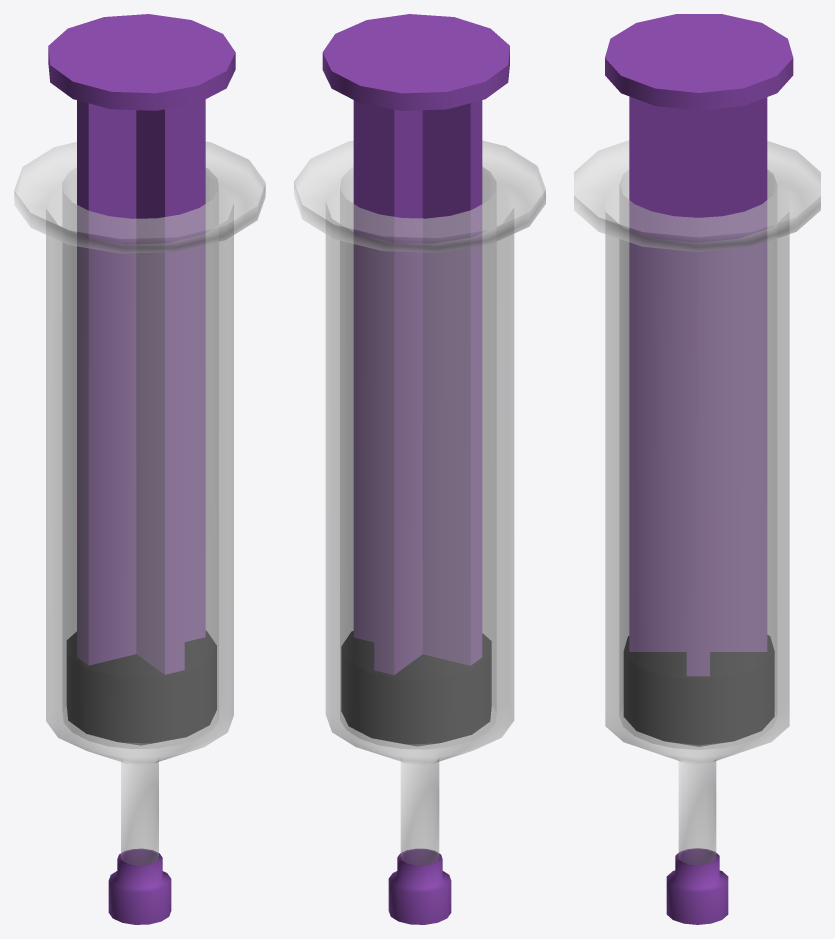
File: Enteral_Syringe_EVAC.fbx
The picture shows the model from 3 angles, left to right: view 1: azimuth 30°, elevation 25°; view 2: azimuth 150°, elevation 25°; view 3: azimuth 270°, elevation 25°; orthographic projection.
Parts seen in each view (by area): view 1: Syringe_Enteral, handle, handle_cap, plunger; view 2: Syringe_Enteral, handle, handle_cap, plunger; view 3: Syringe_Enteral, handle, handle_cap, plunger.
Part boxes in pixels (x1,y1,x2,y2): Syringe_Enteral: [14, 141, 265, 924]; handle: [77, 99, 205, 674]; handle_cap: [48, 14, 235, 110]; plunger: [66, 631, 216, 745]; Syringe_Enteral: [294, 140, 545, 924]; handle: [353, 100, 482, 674]; handle_cap: [322, 14, 509, 110]; plunger: [341, 631, 491, 746]; Syringe_Enteral: [574, 140, 820, 924]; handle: [629, 96, 767, 676]; handle_cap: [605, 14, 793, 110]; plunger: [623, 635, 774, 746].
Bounding box in the file's own units: 2.34 × 8.79 × 2.29.
